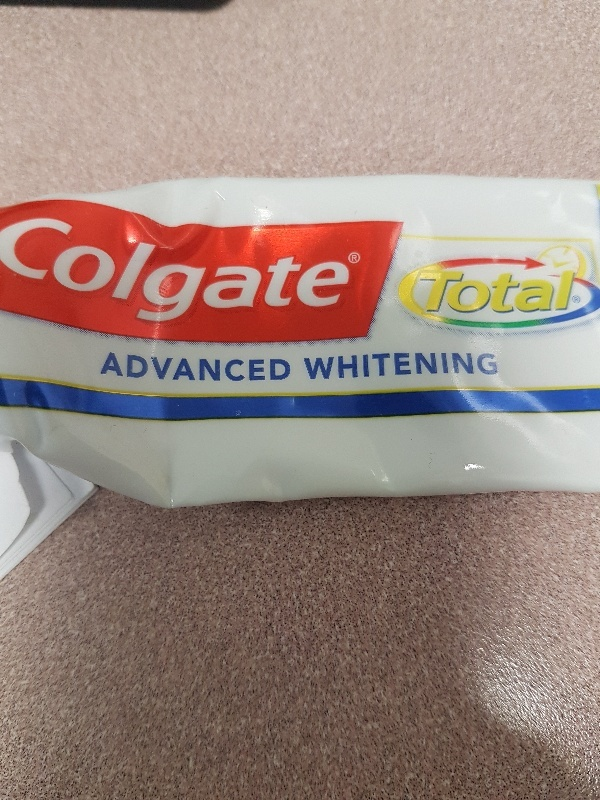text: (1, 211, 16, 328), (17, 211, 32, 328), (33, 211, 48, 328), (49, 211, 64, 328), (65, 211, 80, 328), (81, 211, 96, 328), (97, 211, 112, 328), (113, 211, 128, 328), (129, 211, 144, 328), (145, 211, 160, 328), (161, 211, 176, 328), (177, 211, 192, 328), (193, 211, 208, 328), (209, 211, 224, 328), (225, 211, 240, 328), (241, 211, 256, 328), (257, 211, 272, 328), (273, 211, 288, 328), (289, 211, 304, 328), (305, 211, 320, 328), (321, 211, 336, 328), (337, 211, 352, 328), (433, 271, 448, 315), (449, 271, 464, 315), (465, 271, 480, 315), (481, 271, 496, 315), (497, 271, 512, 315), (513, 271, 528, 315), (529, 271, 544, 315), (545, 271, 560, 315), (561, 271, 575, 315), (419, 271, 432, 315), (113, 351, 128, 383), (129, 351, 144, 383), (145, 351, 160, 383), (161, 351, 176, 383), (177, 351, 192, 383), (193, 351, 208, 383), (209, 351, 224, 383), (225, 351, 240, 383), (241, 351, 256, 383), (257, 351, 272, 383), (273, 351, 288, 383), (305, 349, 320, 380), (321, 349, 336, 380), (337, 349, 352, 380), (353, 349, 368, 380), (369, 349, 384, 380), (385, 349, 400, 380), (401, 349, 416, 380), (417, 349, 432, 380), (433, 349, 448, 380), (449, 349, 464, 380), (465, 349, 480, 380), (481, 349, 496, 380), (104, 351, 112, 383), (289, 351, 292, 383), (497, 349, 500, 380), (302, 349, 304, 380), (353, 255, 358, 262), (574, 297, 576, 303), (351, 255, 352, 262), (577, 297, 578, 303)
